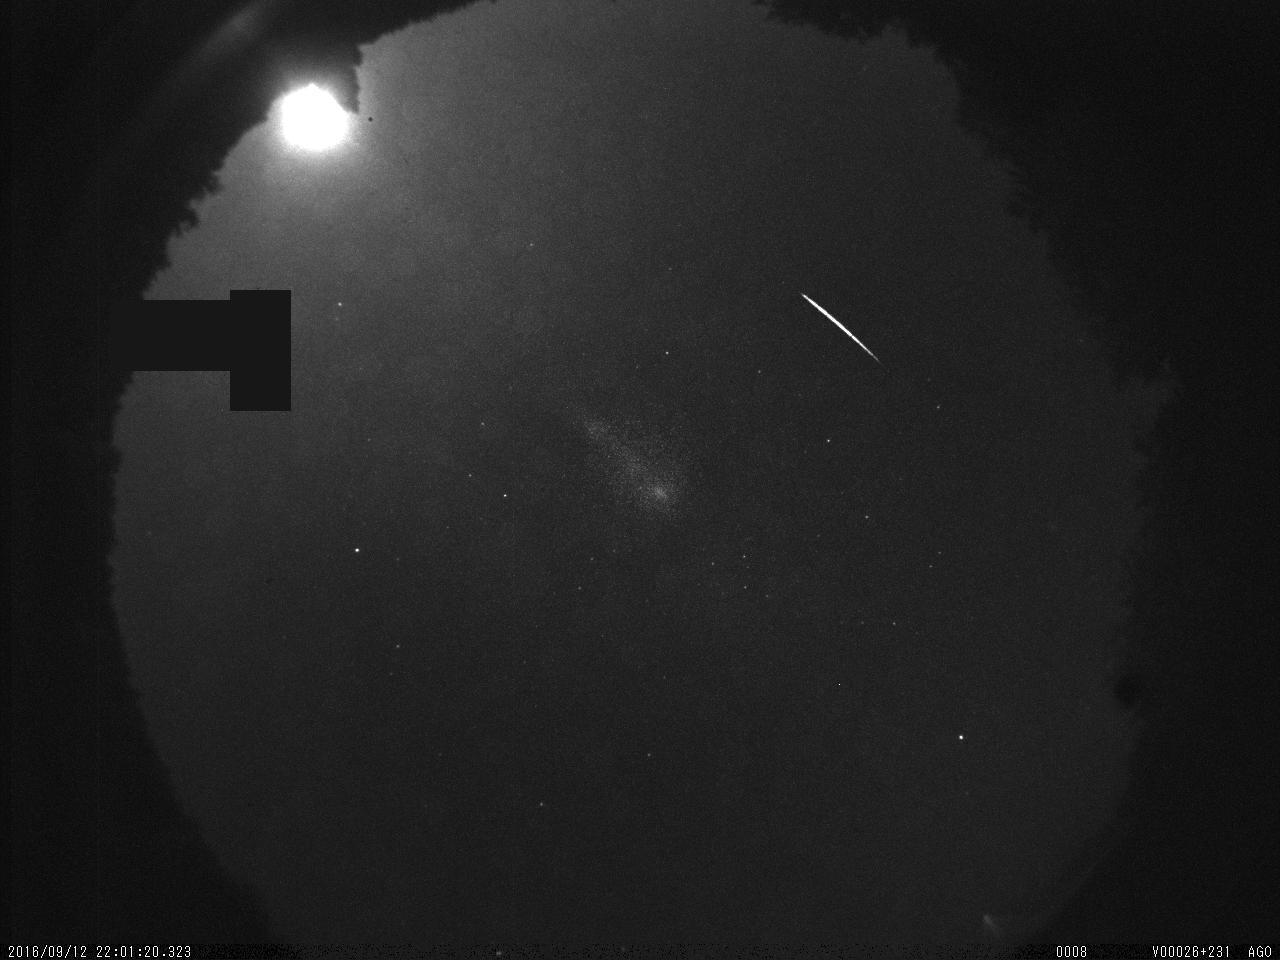meteor: (787, 270, 894, 383)
